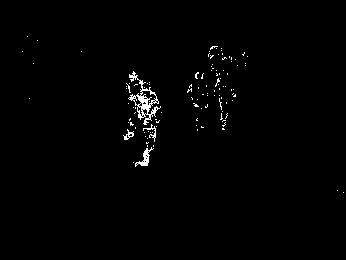person: (131, 81, 163, 169), (186, 71, 212, 133), (212, 73, 236, 132)
